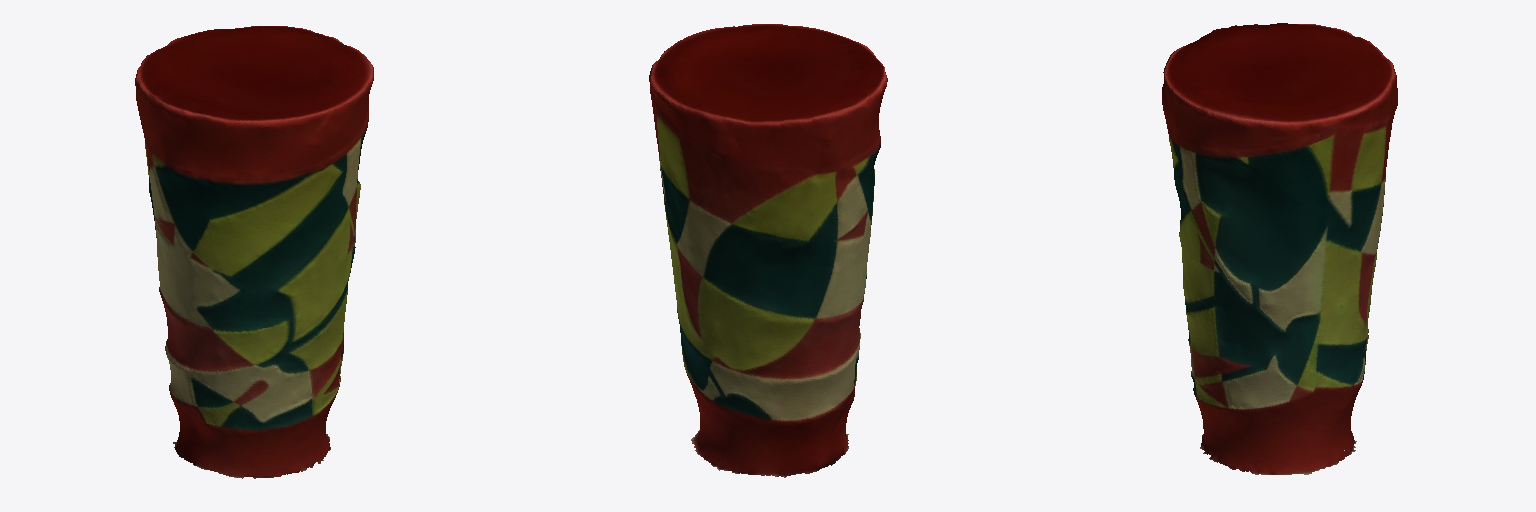
The picture shows the model from 3 angles: view 1: azimuth 30°, elevation 25°; view 2: azimuth 150°, elevation 25°; view 3: azimuth 270°, elevation 25°; orthographic projection.
Parts seen in each view (by area): view 1: redcup21; view 2: redcup21; view 3: redcup21.
Part boxes in pixels (bbox=[...]): redcup21: bbox=[135, 26, 373, 478]; redcup21: bbox=[649, 24, 887, 477]; redcup21: bbox=[1162, 23, 1397, 474].
Bounding box in the file's own units: 0.0898 × 0.1571 × 0.089.
3 materials, 1 textured.